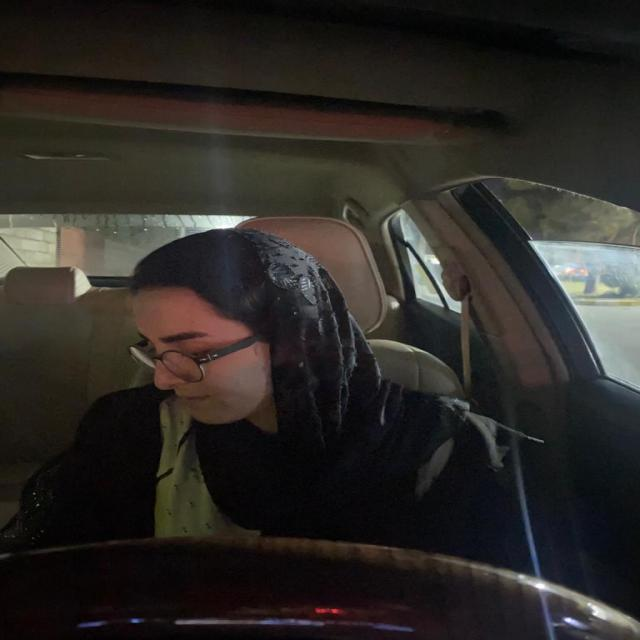LeftRight: (122, 227, 325, 449)
